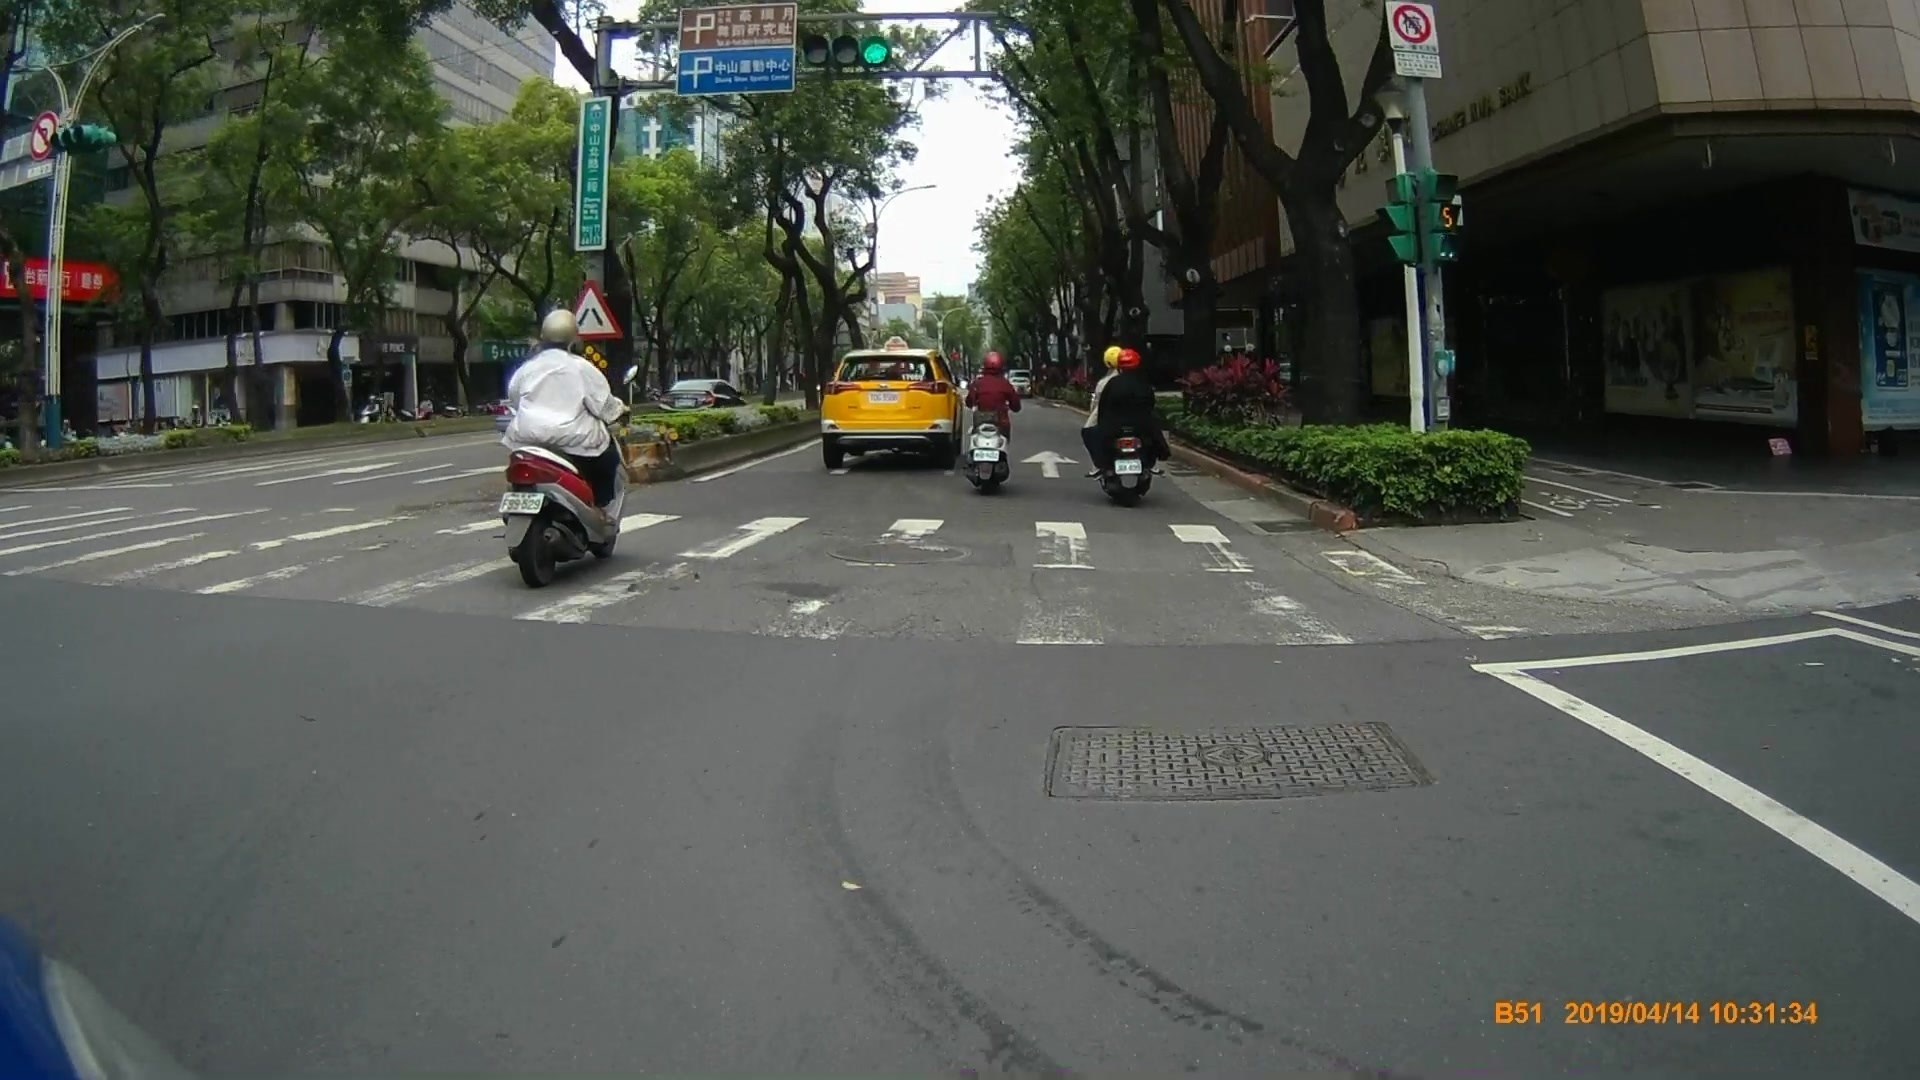License_plate: (497, 486, 547, 517), (868, 389, 899, 406), (974, 447, 1002, 464), (1116, 460, 1141, 473)
